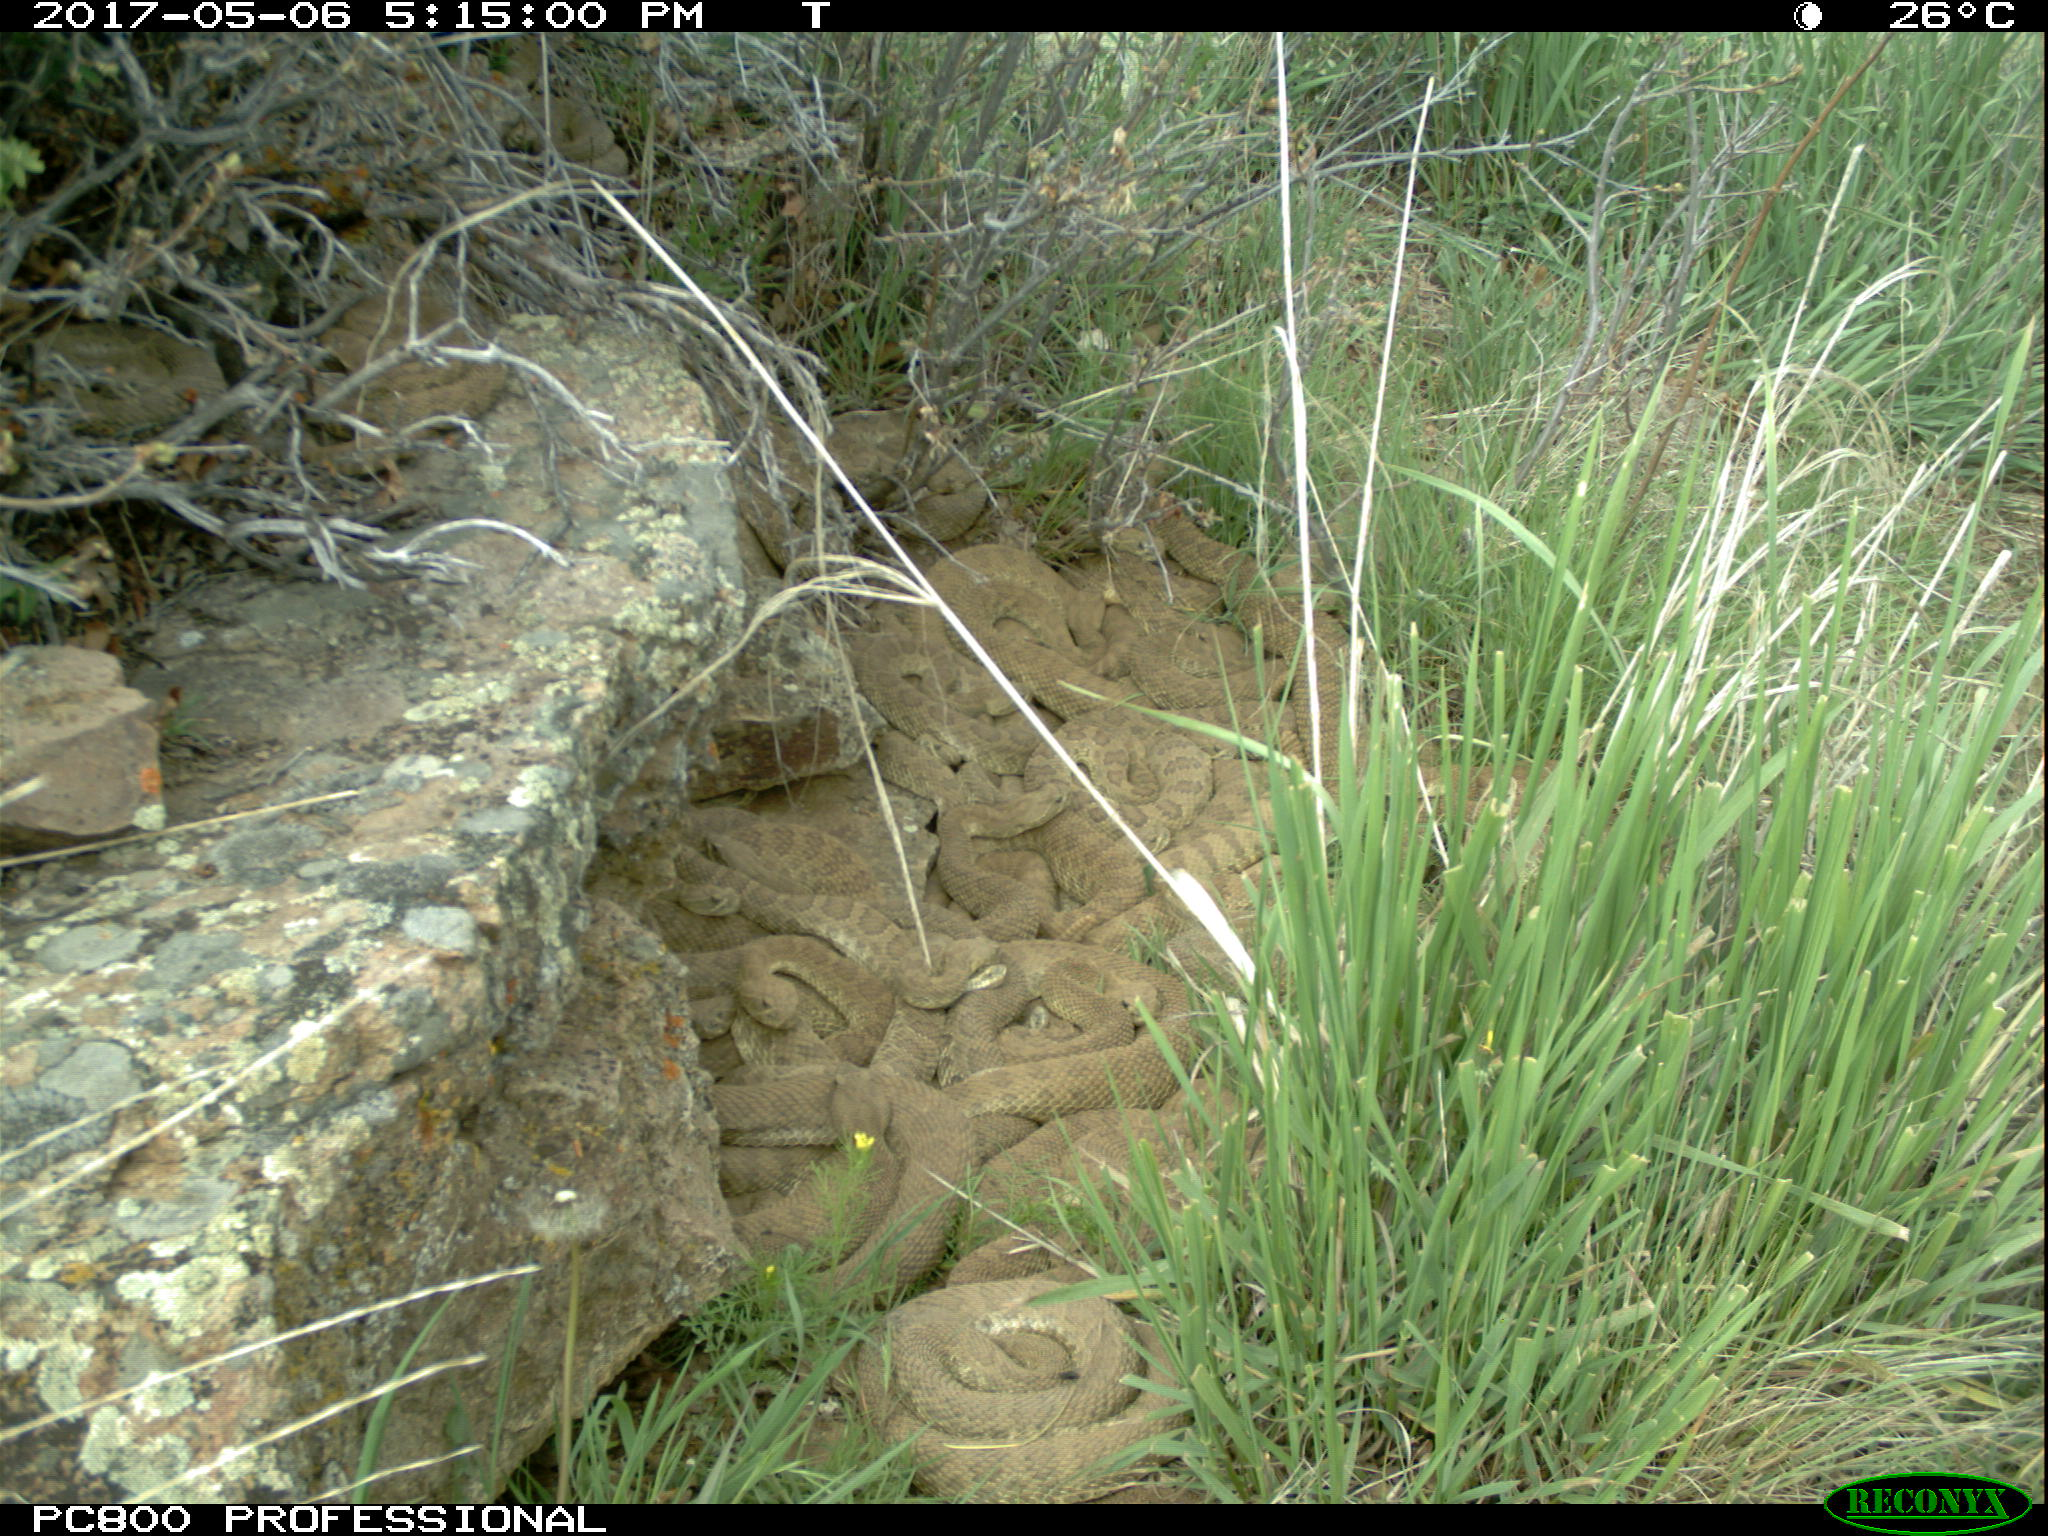snake: (853, 1271, 1200, 1499), (705, 1071, 987, 1299), (1101, 508, 1372, 736), (1037, 691, 1347, 879), (656, 824, 990, 999), (918, 768, 1188, 942), (863, 545, 1119, 728), (948, 949, 1205, 1120), (698, 931, 963, 1087), (955, 1102, 1234, 1231), (310, 286, 503, 424), (864, 432, 998, 542)
